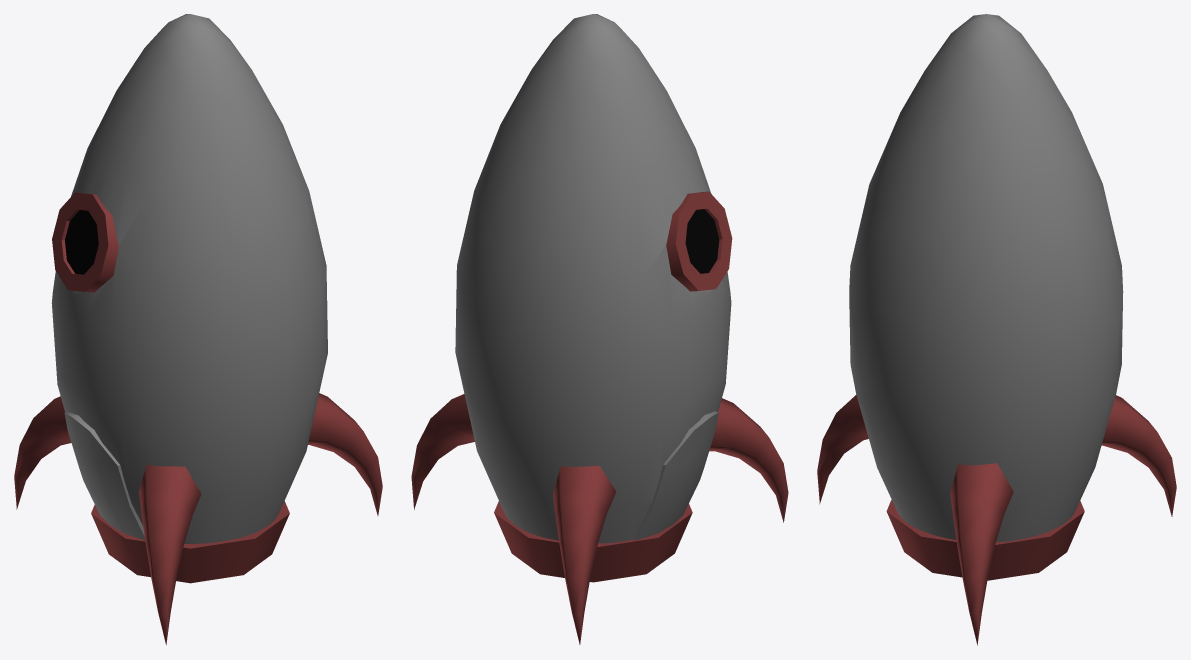
Rendered from rocket.fbx.
3 views of the same model, side by side, from view 1: azimuth 30°, elevation 25°; view 2: azimuth 150°, elevation 25°; view 3: azimuth 270°, elevation 25° (orthographic).
Visible parts, largest first — view 1: main, leg002, Cylinder001, Box001, Cylinder002, leg003, leg1, glass; view 2: main, leg1, Cylinder001, Box001, leg002, Cylinder002, leg003, glass; view 3: main, leg003, Cylinder001, leg1, leg002.
Part boxes in pixels (bbox=[...]): main: bbox=[51, 14, 327, 543]; leg002: bbox=[138, 464, 201, 644]; Cylinder001: bbox=[91, 501, 289, 583]; Box001: bbox=[64, 411, 145, 540]; Cylinder002: bbox=[52, 192, 118, 292]; leg003: bbox=[308, 393, 382, 515]; leg1: bbox=[14, 396, 71, 509]; glass: bbox=[65, 210, 98, 274]; main: bbox=[455, 14, 731, 543]; leg1: bbox=[553, 465, 616, 644]; Cylinder001: bbox=[494, 501, 692, 582]; Box001: bbox=[634, 411, 718, 540]; leg002: bbox=[709, 398, 788, 522]; Cylinder002: bbox=[666, 191, 732, 291]; leg003: bbox=[411, 394, 474, 509]; glass: bbox=[685, 209, 719, 273]; main: bbox=[849, 14, 1123, 542]; leg003: bbox=[950, 463, 1013, 645]; Cylinder001: bbox=[886, 500, 1084, 580]; leg1: bbox=[1101, 395, 1176, 516]; leg002: bbox=[817, 395, 868, 504].
Size of the model in its own units: 71.93 by 121 by 72.86.
